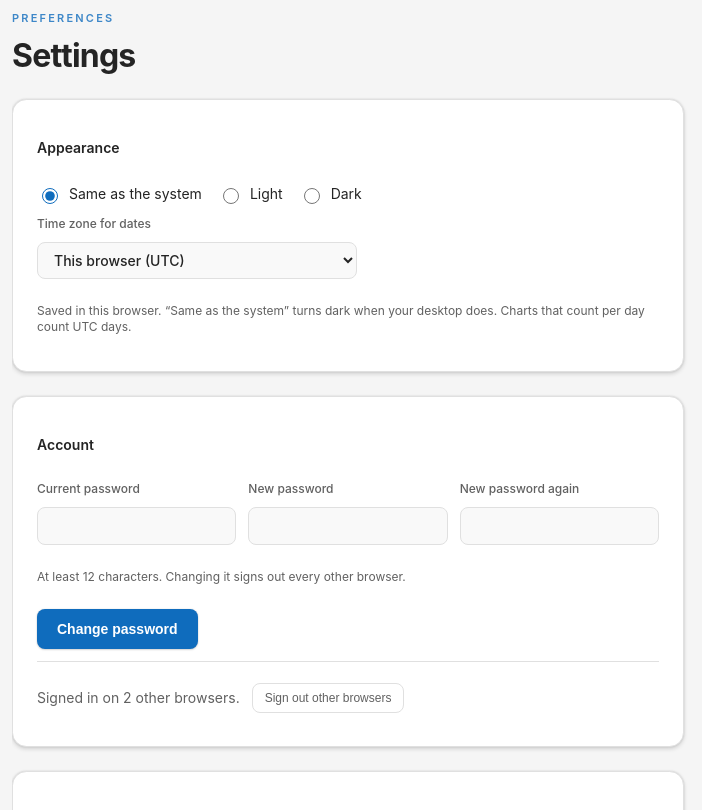
Scenario: signs out every other browser and says how many
This screenshot has width=702, height=810.
Expected: the text "Signed in on 2 other browsers." is shown, [37, 688, 240, 708]
Click the button "Sign out other browsers" at (328, 698), box [252, 683, 404, 713]
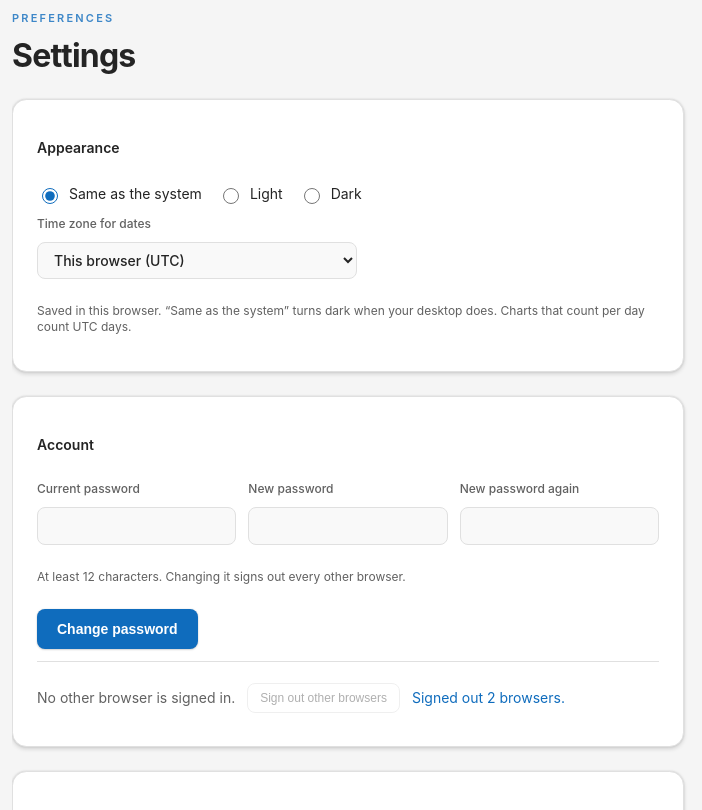
Expected: the text "Signed out 2 browsers." is shown, [412, 688, 565, 708]
Expected: the text "No other browser is signed in." is shown, [37, 688, 235, 708]
Expected: the button "Sign out other browsers" is disabled, [247, 683, 400, 713]
